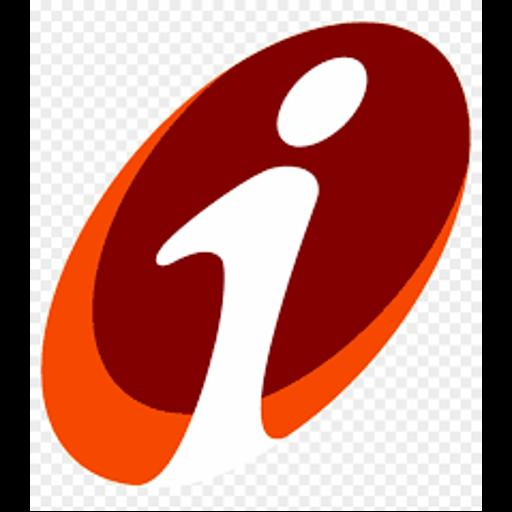ICICI Bank Limited: (30, 0, 482, 511)
